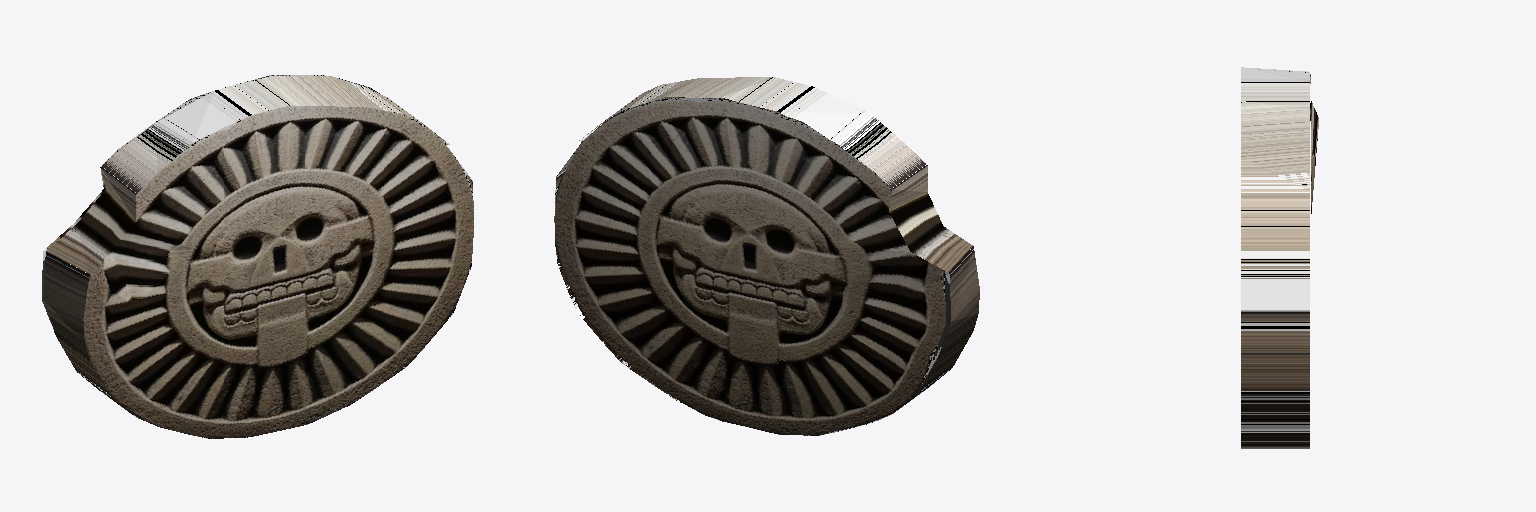
3 views of the same model, side by side, from view 1: azimuth 30°, elevation 25°; view 2: azimuth 150°, elevation 25°; view 3: azimuth 270°, elevation 25° (orthographic).
Parts seen in each view (by area): view 1: Box001; view 2: Box001; view 3: Box001.
Part boxes in pixels (bbox=[...]): Box001: bbox=[42, 75, 473, 438]; Box001: bbox=[554, 77, 979, 435]; Box001: bbox=[1241, 67, 1318, 448].
Bounding box in the file's own units: 61.34 × 47.82 × 10.53.
Materials: 1 (1 with a texture image).